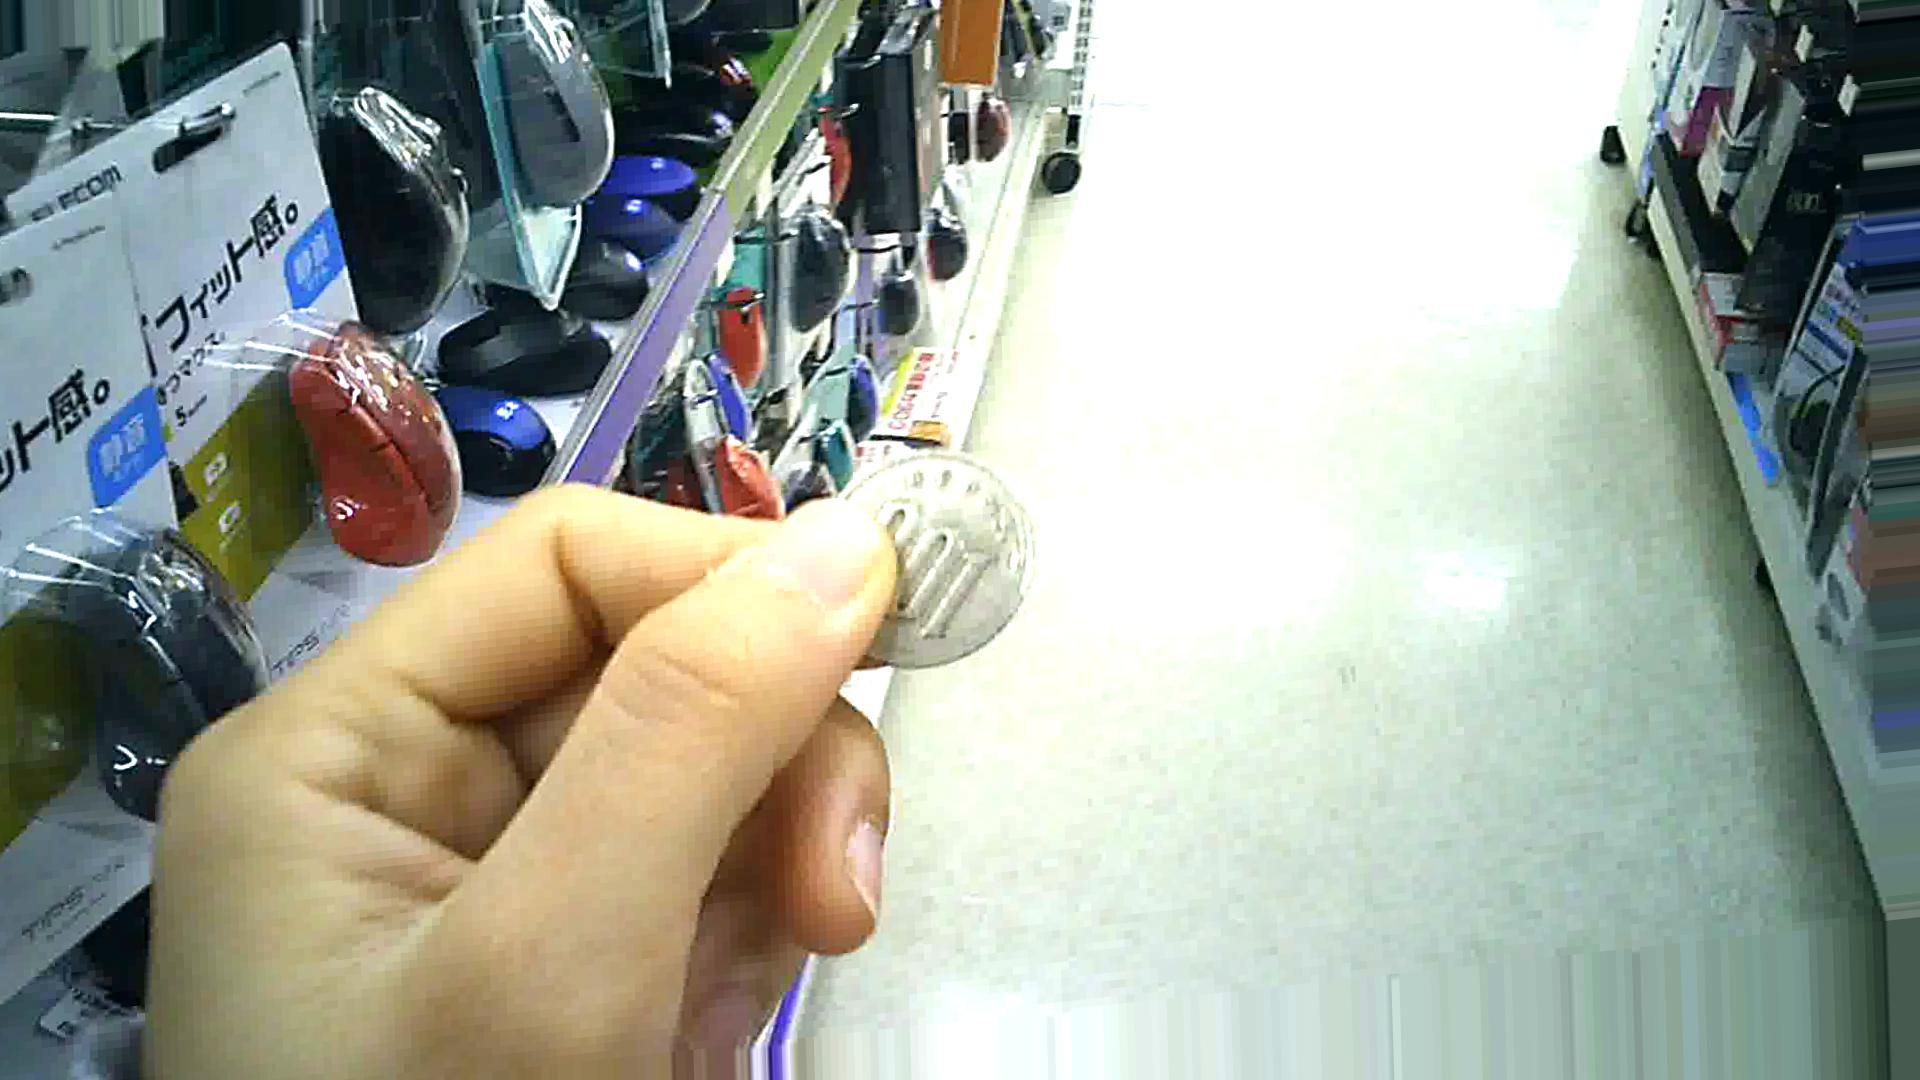100 Yen: (825, 439, 1034, 683)
